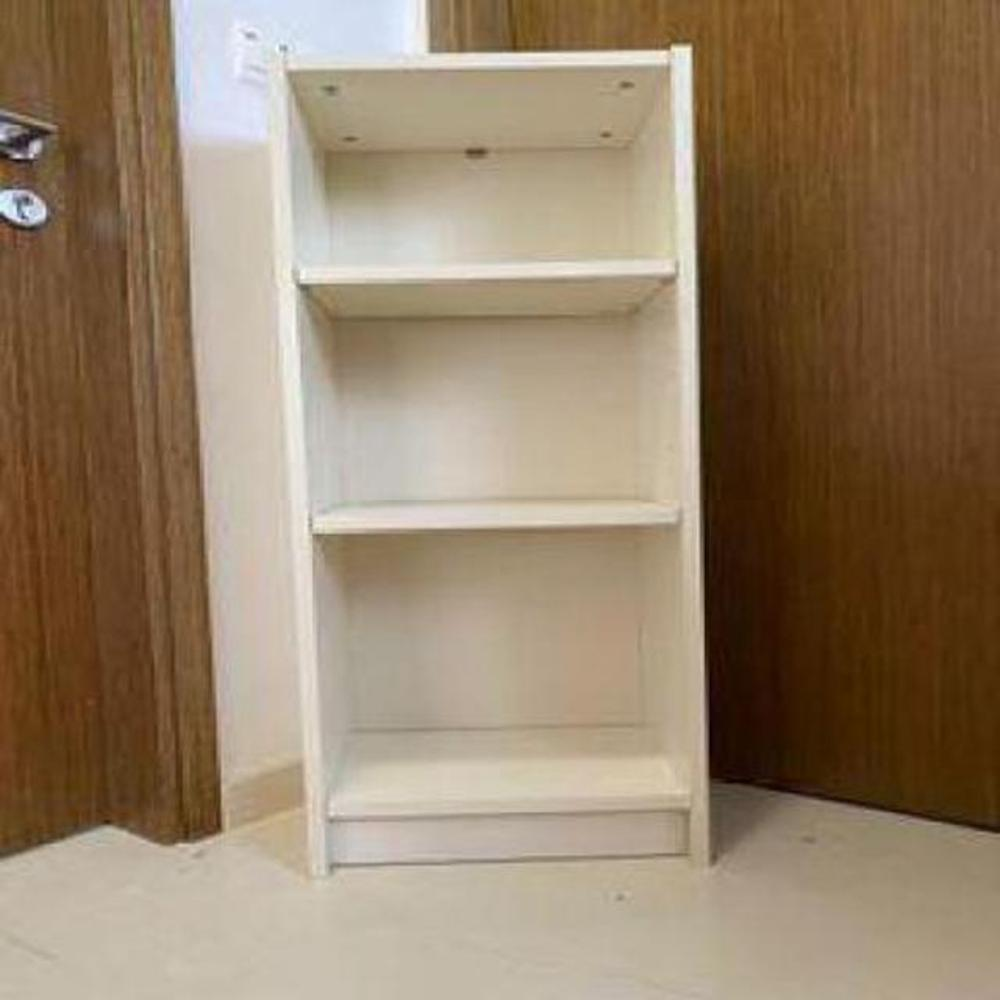lamp: (266, 41, 720, 880)
